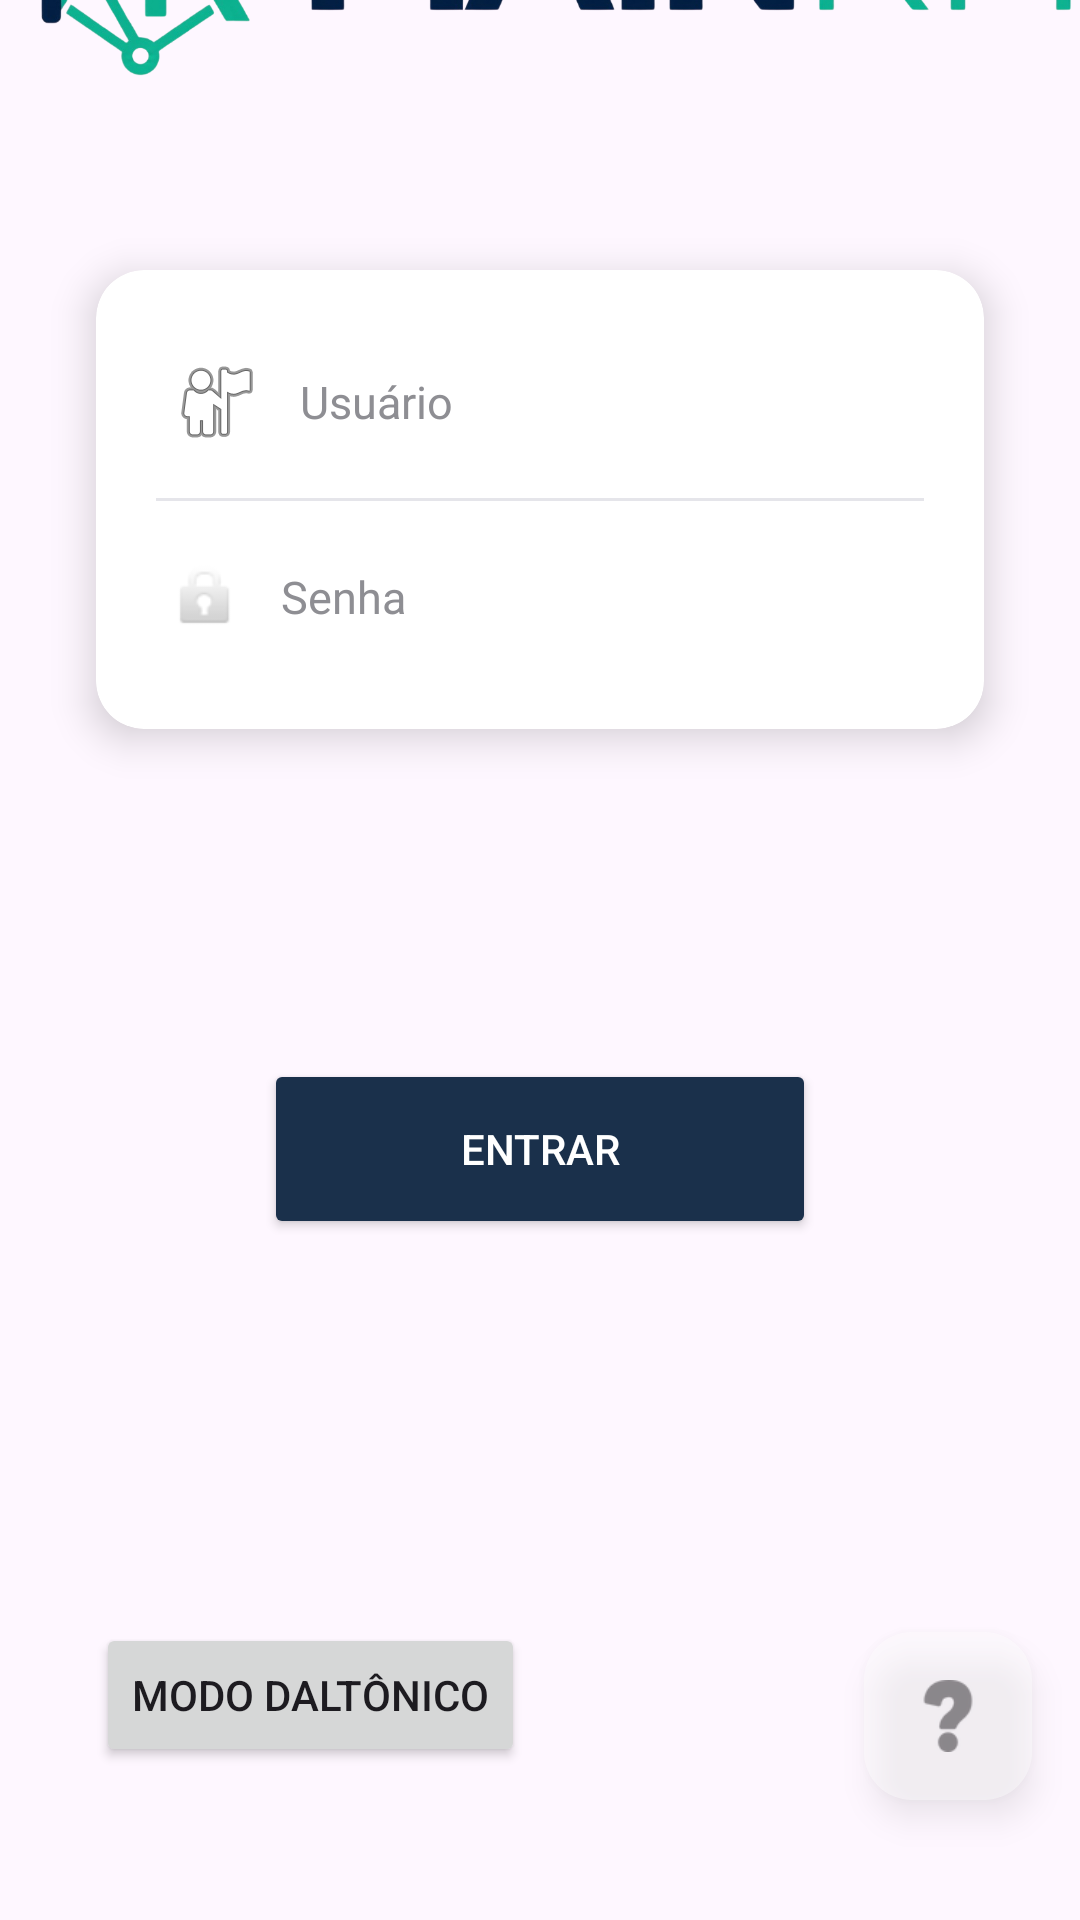

Where icons sit on this 1080 × 1920 app screen, as bbox=(x1, y1, x2, y2):
interrogacao: bbox=(923, 1680, 973, 1752)
